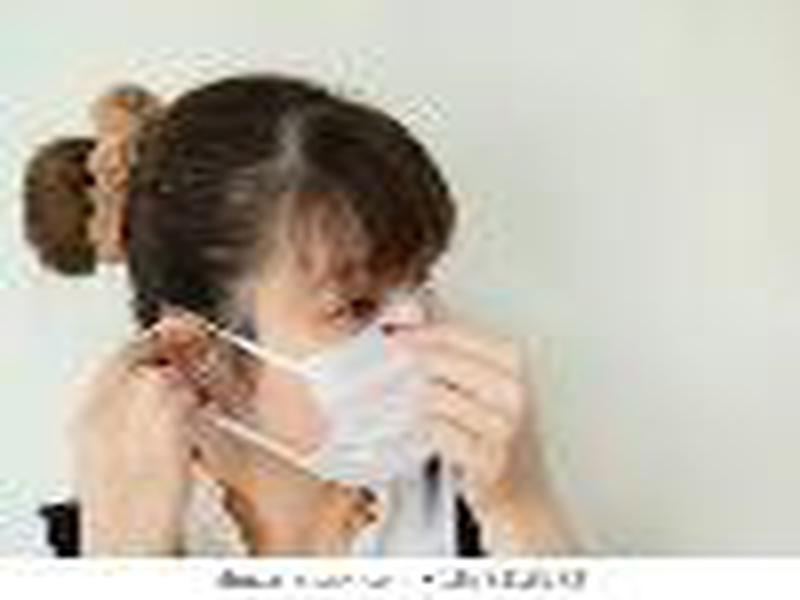with_mask: (120, 65, 464, 495)
